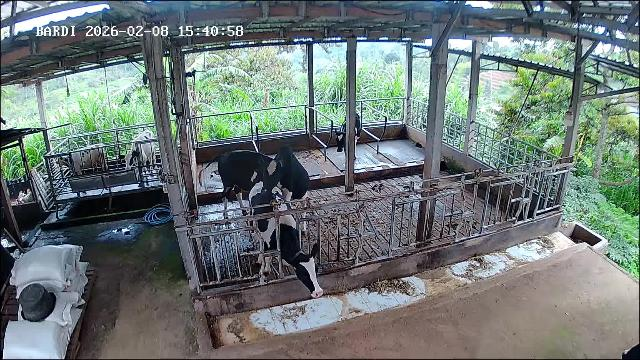mounting: (248, 142, 311, 232)
